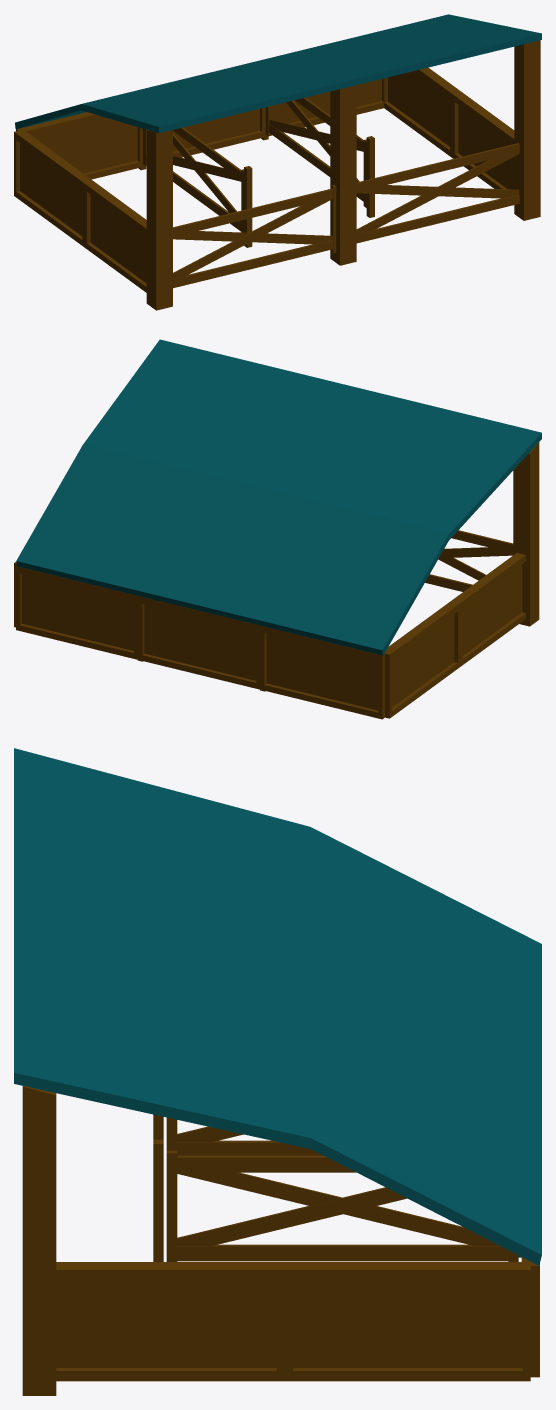
File: Env_Stable.fbx
3 renders of one model, top to bottom at view 1: azimuth 30°, elevation 25°; view 2: azimuth 150°, elevation 25°; view 3: azimuth 270°, elevation 25°, orthographic. The views are drawn at different scales.
Visible parts, largest first — view 1: pCube242, pCube240, pCube241, pCube236, pCube256, Wood_Pillar_OneStorey_Master_Copy2, Wood_Pillar_OneStorey_Master_Copy1, pCube239, Wood_Pillar_OneStorey_Master_Copy3, pCube237, pCube238, pCube263 (+20 smaller); view 2: pCube245, pCube244, pCube243, pCube242, pCube240, pCube241, pCube256, pCube263, pCube59, pCube236, pCube239, Wood_Pillar_OneStorey_Master_Copy2 (+2 smaller); view 3: pCube240, pCube242, pCube241, pCube237, pCube238, pCube243, pCube244, pCube245, Wood_Pillar_OneStorey_Master_Copy1, pCube255, pCube260, pCube261 (+5 smaller).
Boxes of the visible parts, x1,y1,x2,y2 form: pCube242: [81, 74, 289, 133]; pCube240: [327, 14, 541, 71]; pCube241: [204, 44, 411, 101]; pCube236: [14, 130, 93, 247]; pCube256: [16, 112, 143, 179]; Wood_Pillar_OneStorey_Master_Copy2: [146, 130, 172, 310]; Wood_Pillar_OneStorey_Master_Copy1: [514, 40, 540, 220]; pCube239: [84, 181, 146, 292]; Wood_Pillar_OneStorey_Master_Copy3: [330, 85, 356, 265]; pCube237: [382, 67, 460, 157]; pCube238: [452, 91, 514, 189]; pCube263: [143, 107, 266, 166]; pCube245: [260, 504, 448, 655]; pCube244: [138, 474, 326, 625]; pCube243: [16, 444, 204, 595]; pCube242: [327, 401, 541, 540]; pCube240: [83, 339, 289, 474]; pCube241: [205, 371, 411, 503]; pCube256: [260, 625, 385, 719]; pCube263: [138, 596, 260, 689]; pCube59: [16, 565, 137, 659]; pCube236: [384, 601, 460, 718]; pCube239: [451, 553, 525, 666]; Wood_Pillar_OneStorey_Master_Copy2: [513, 442, 539, 626]; pCube240: [14, 962, 310, 1148]; pCube242: [14, 748, 309, 930]; pCube241: [14, 858, 309, 1033]; pCube237: [285, 1262, 530, 1381]; pCube238: [56, 1262, 284, 1381]; pCube243: [309, 1034, 541, 1265]; pCube244: [309, 930, 541, 1150]; pCube245: [309, 827, 541, 1047]; Wood_Pillar_OneStorey_Master_Copy1: [22, 1085, 56, 1395]; pCube255: [177, 1244, 508, 1261]; pCube260: [177, 1172, 499, 1245]; pCube261: [177, 1187, 406, 1245].
Size of the model in its own units: 627 by 290 by 430.
